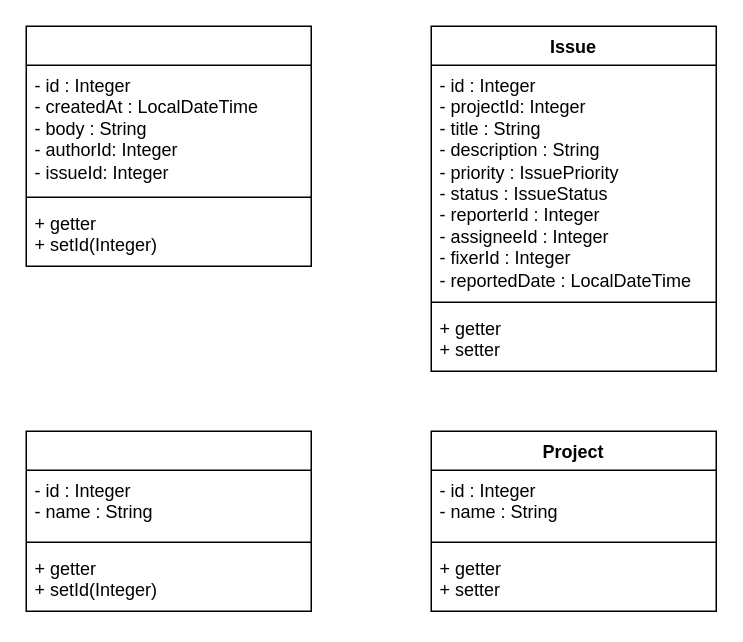
This 743x642 diagram has some shape labels left out. The box of each missing label's shape, as (x1, y1, x2, y2) in pixels:
Comment: (25, 25, 311, 266)
User: (25, 430, 311, 611)
